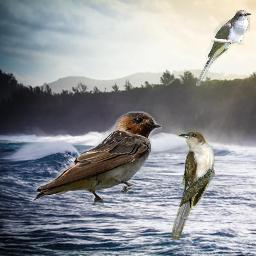Cuckoo: (171, 131, 215, 241), (195, 10, 251, 86)
Swallow: (29, 110, 162, 206)
